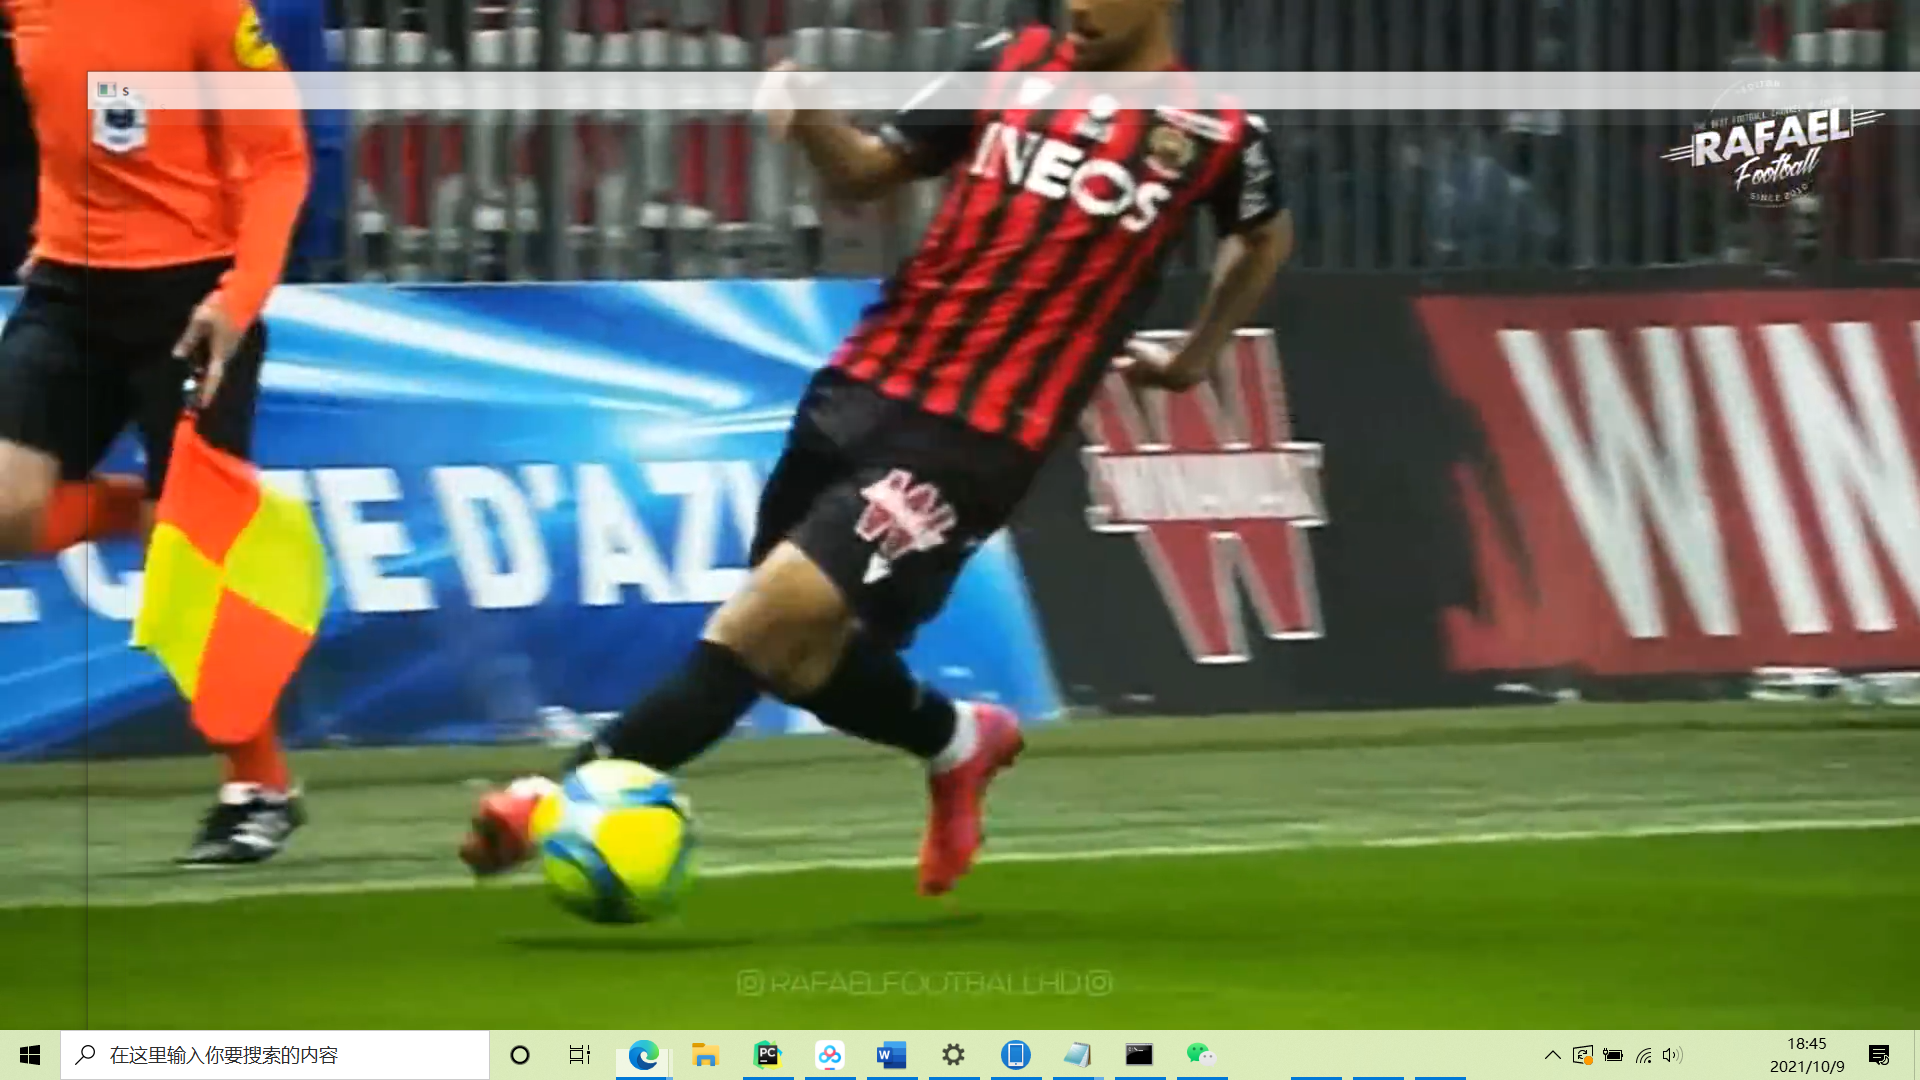ft: (527, 757, 708, 930)
